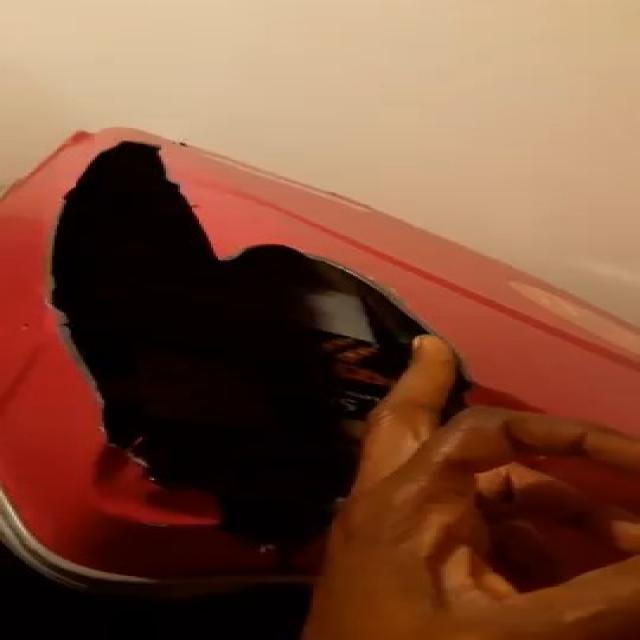Damage-bag: (51, 141, 424, 553)
